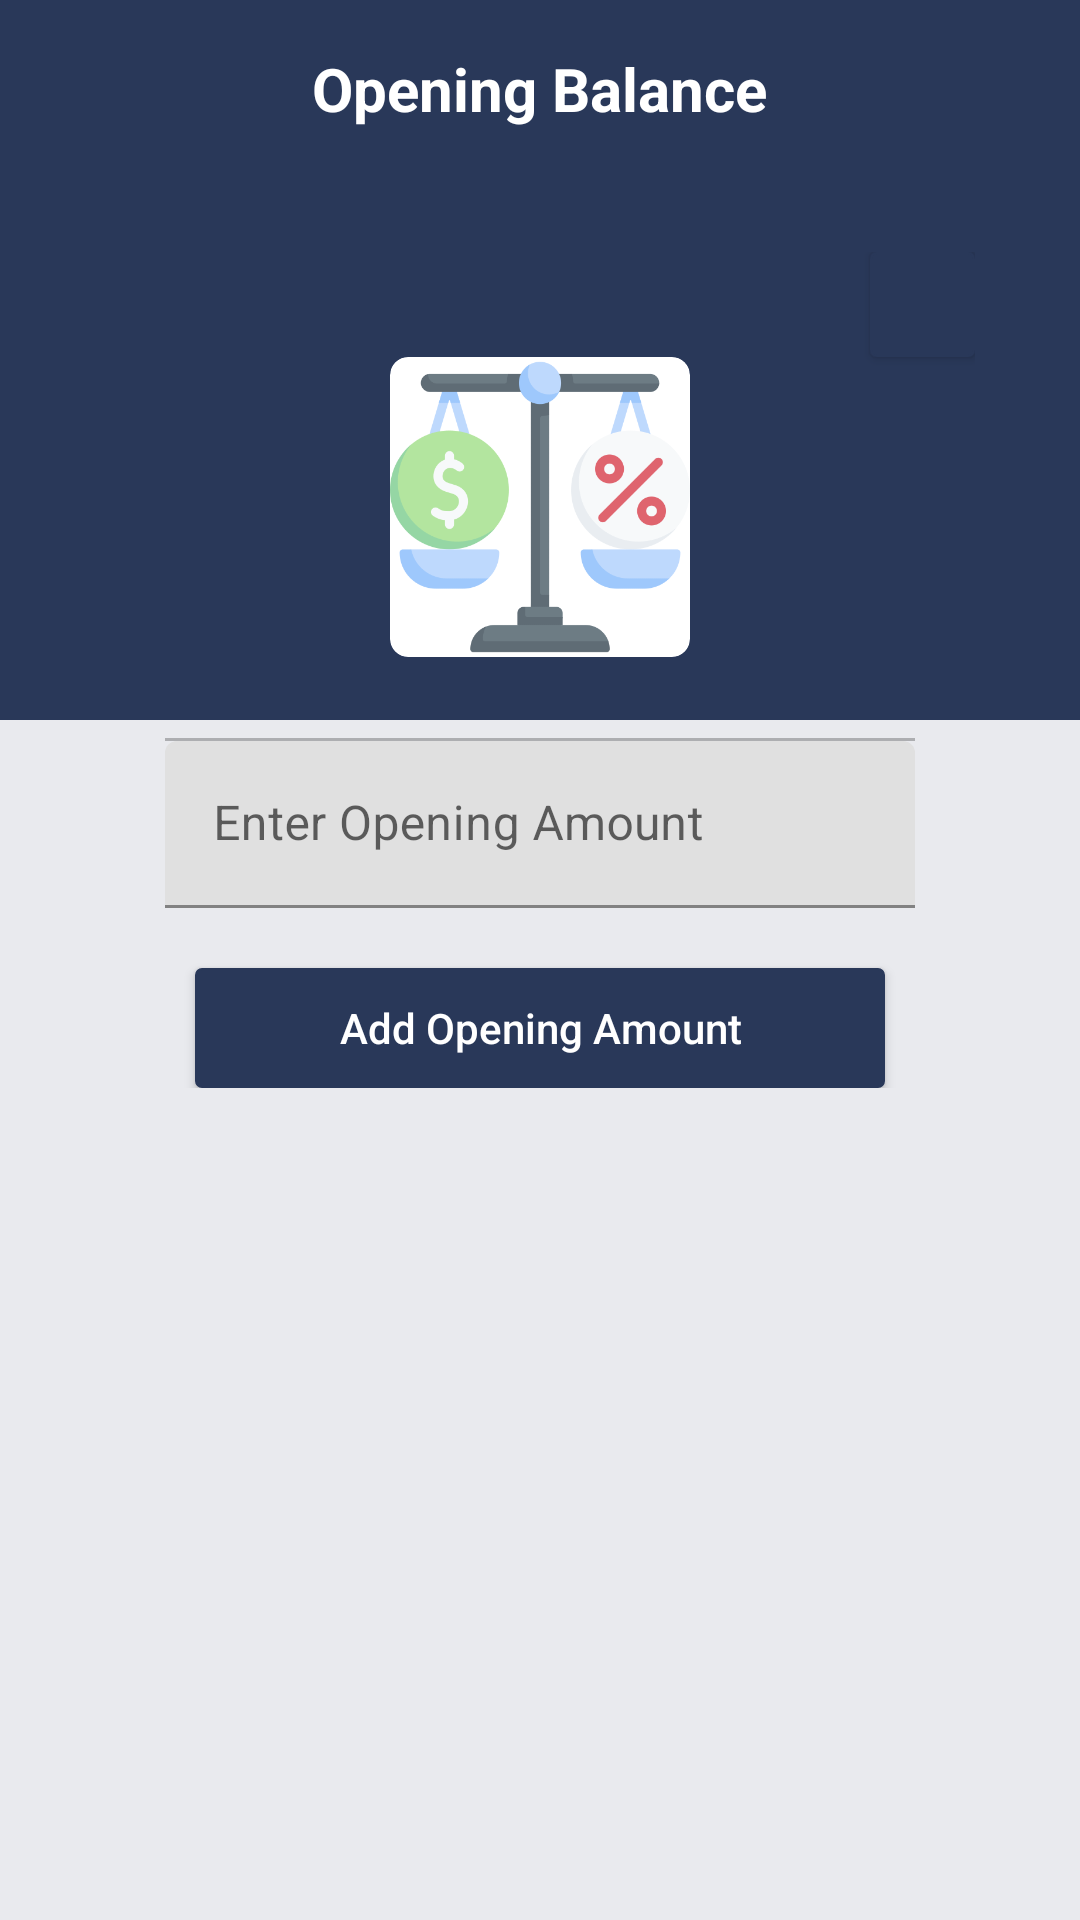

Screen size 1080*1920. Icon name, then its box in pixels as (x1=x1, y1=y1, x2=x2, y2=y2):
scale: (x1=390, y1=357, x2=690, y2=657)
